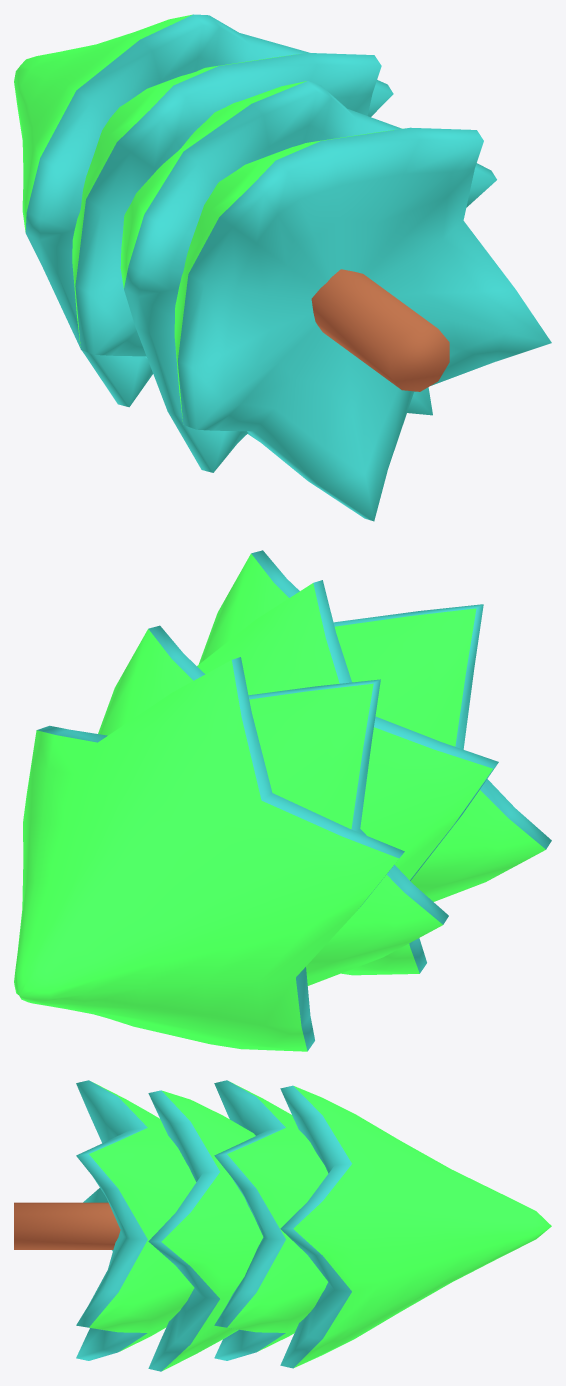
The model's file is tree_01.fbx.
3 views of the same model, one above another, from view 1: azimuth 30°, elevation 25°; view 2: azimuth 150°, elevation 25°; view 3: azimuth 270°, elevation 25° (orthographic). The views are drawn at different scales.
Visible parts, largest first — view 1: tree_01.001; view 2: tree_01.001; view 3: tree_01.001.
Part boxes in pixels (left/top/right/bottom): tree_01.001: left=14, top=14, right=551, bottom=521; tree_01.001: left=14, top=550, right=551, bottom=1051; tree_01.001: left=14, top=1080, right=551, bottom=1371.
Size of the model in its own units: 221 by 229 by 414.
